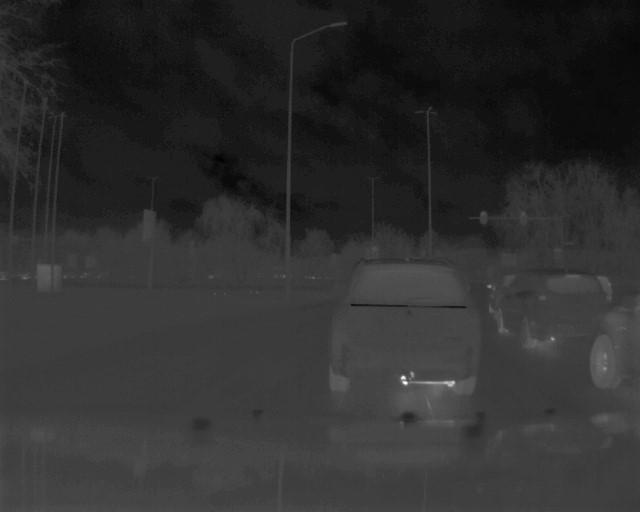car: (326, 251, 483, 402), (496, 271, 610, 349), (591, 292, 640, 394)
